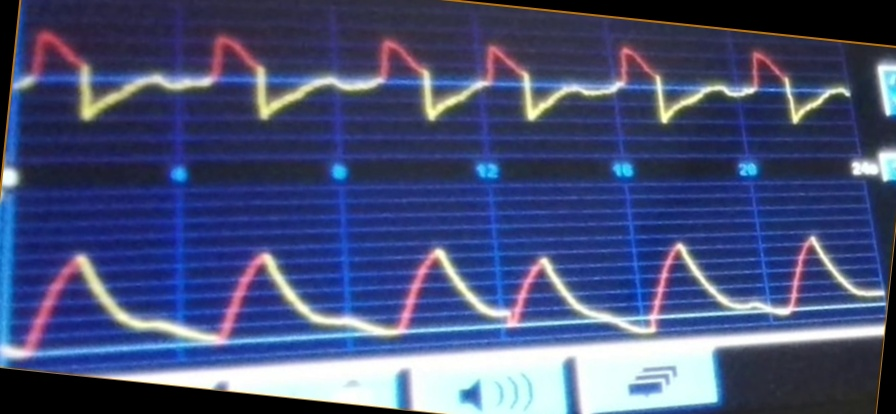Ineffective_effort Flow: (22, 26, 850, 130)
Ineffective_effort Volume: (13, 230, 880, 353)
